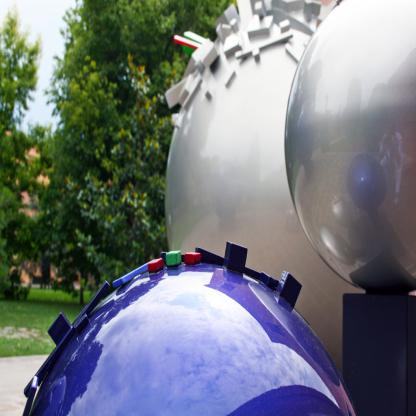Ball: (165, 0, 345, 381), (27, 262, 356, 416), (285, 0, 415, 297)
